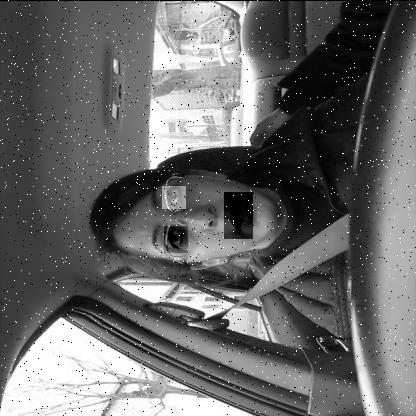seatbelt: (80, 157, 348, 299)
